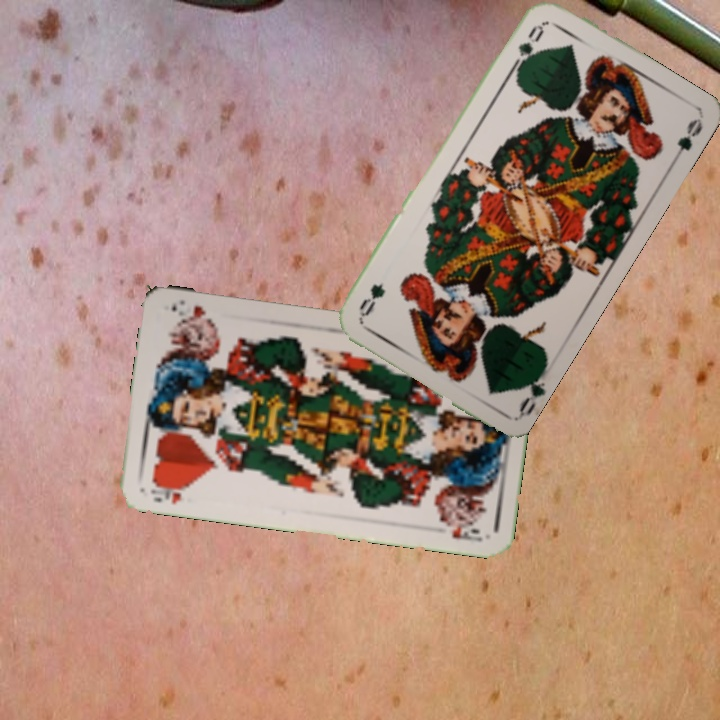GO: (508, 20, 547, 75), (512, 363, 549, 419)
HO: (146, 478, 192, 507)
